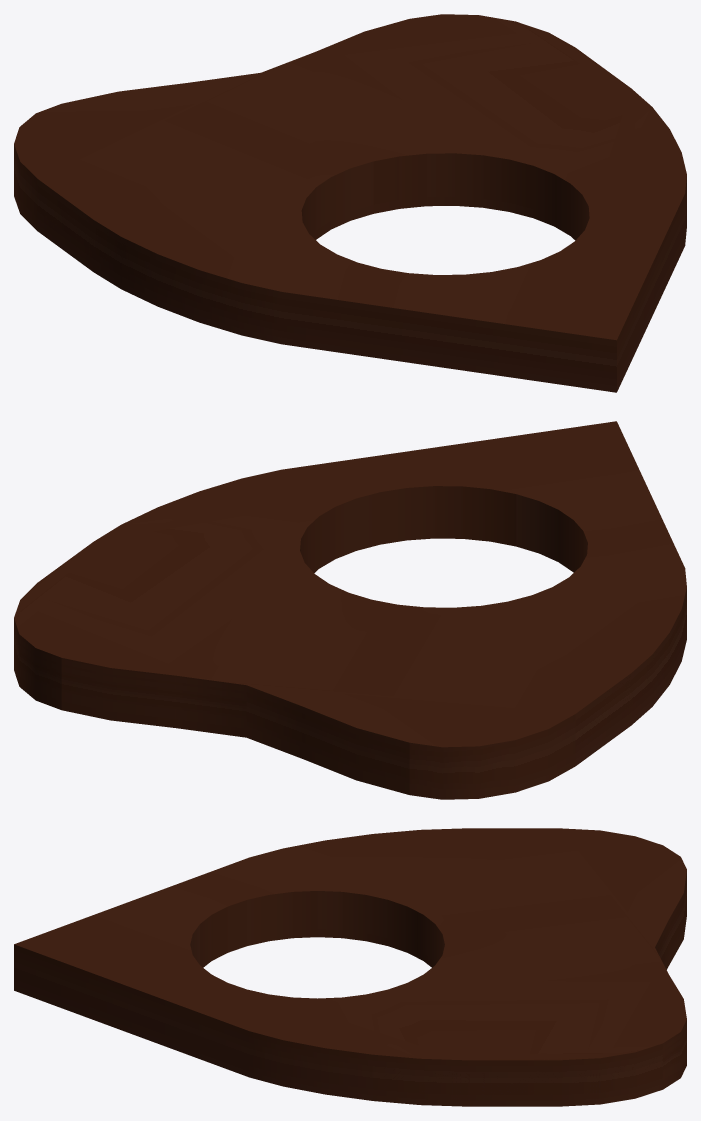
Rendered from ouija_cursor.glb.
3 renders of one model, top to bottom at view 1: azimuth 30°, elevation 25°; view 2: azimuth 150°, elevation 25°; view 3: azimuth 270°, elevation 25°, orthographic. The views are drawn at different scales.
Visible parts, largest first — view 1: OuijaCursor; view 2: OuijaCursor; view 3: OuijaCursor.
Part boxes in pixels (x1,y1,x2,y2): OuijaCursor: (14, 14, 686, 392); OuijaCursor: (14, 421, 686, 799); OuijaCursor: (14, 828, 686, 1106).
Bounding box in the file's own units: 0.2643 × 0.0246 × 0.3244.
1 material, 1 textured.
